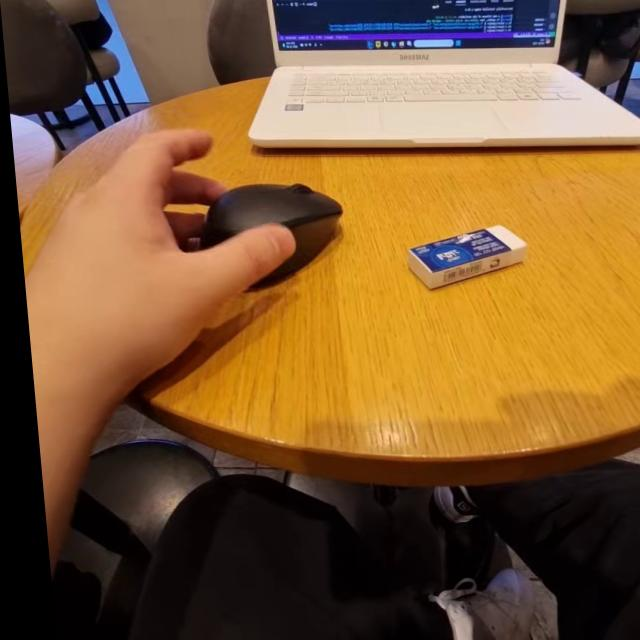eraser: (383, 218, 526, 300)
grab_mouse: (10, 142, 353, 418)
